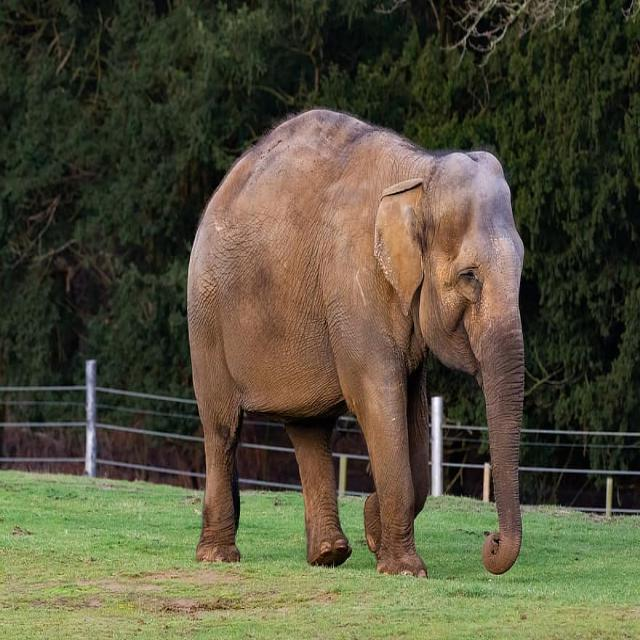Elephant: (181, 100, 532, 585)
